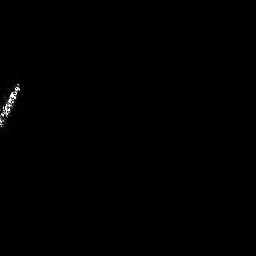ship: (1, 80, 21, 131)
